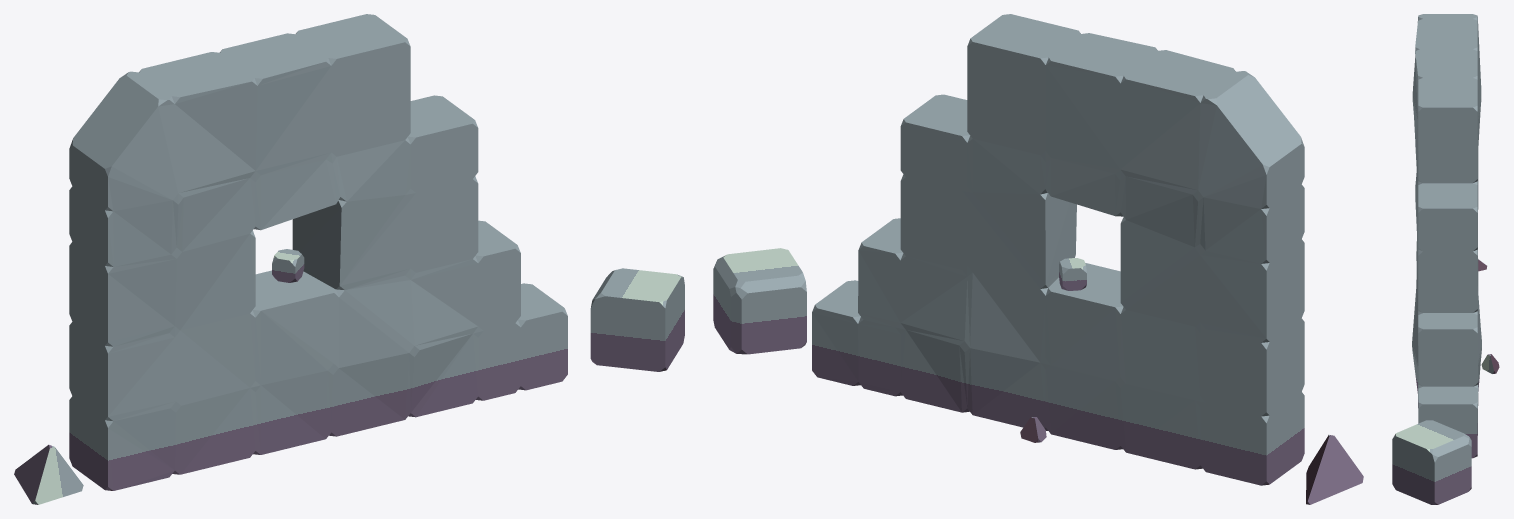
Rendered from Stand Alone Wall.001.fbx.
3 renders of one model, left to right at view 1: azimuth 30°, elevation 25°; view 2: azimuth 150°, elevation 25°; view 3: azimuth 270°, elevation 25°, orthographic. The views are drawn at different scales.
Visible parts, largest first — view 1: Stand Alone Wall.001; view 2: Stand Alone Wall.001; view 3: Stand Alone Wall.001.
Boxes of the visible parts, <box> form: Stand Alone Wall.001: <box>14,14,684,504</box>; Stand Alone Wall.001: <box>713,14,1363,504</box>; Stand Alone Wall.001: <box>1392,14,1499,504</box>.
Bounding box in the file's own units: 950 × 526 × 174.
